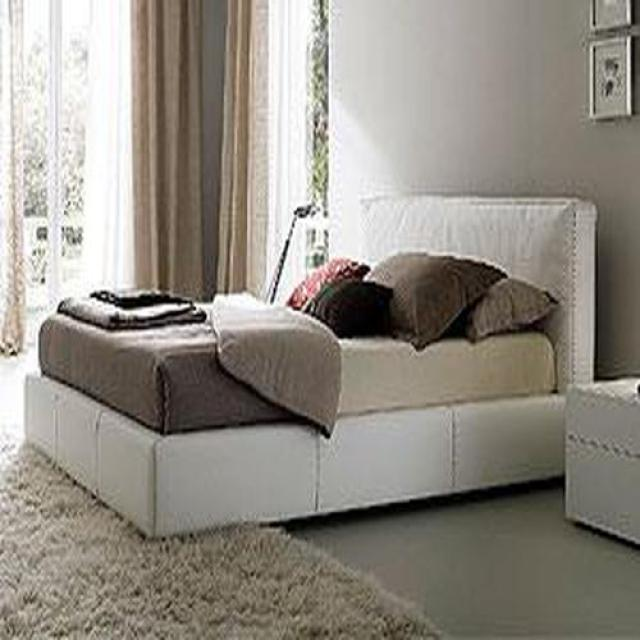bed: (23, 197, 595, 541)
